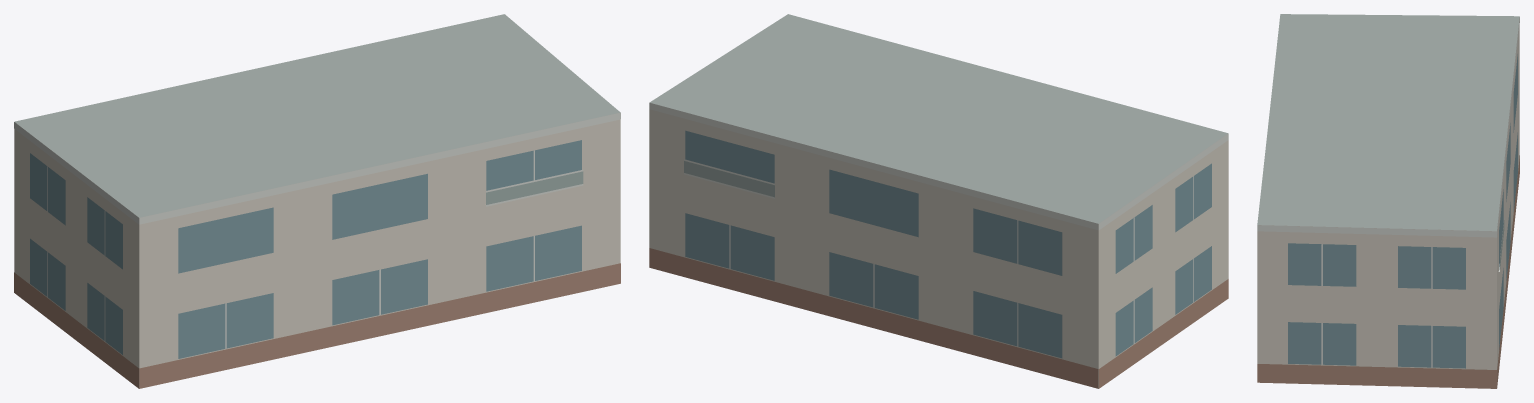
File: survey-upis-33045136.glb
The picture shows the model from 3 angles, left to right: view 1: azimuth 30°, elevation 25°; view 2: azimuth 150°, elevation 25°; view 3: azimuth 270°, elevation 25°; orthographic projection. The views are drawn at different scales.
Visible parts, largest first — view 1: survey-upis-33045136.tmp; view 2: survey-upis-33045136.tmp; view 3: survey-upis-33045136.tmp.
Part boxes in pixels (x1,y1,x2,y2): survey-upis-33045136.tmp: (14,14,620,388); survey-upis-33045136.tmp: (649,14,1228,388); survey-upis-33045136.tmp: (1257,14,1519,388).
Size of the model in its own units: 18.04 by 6.1 by 9.22.
